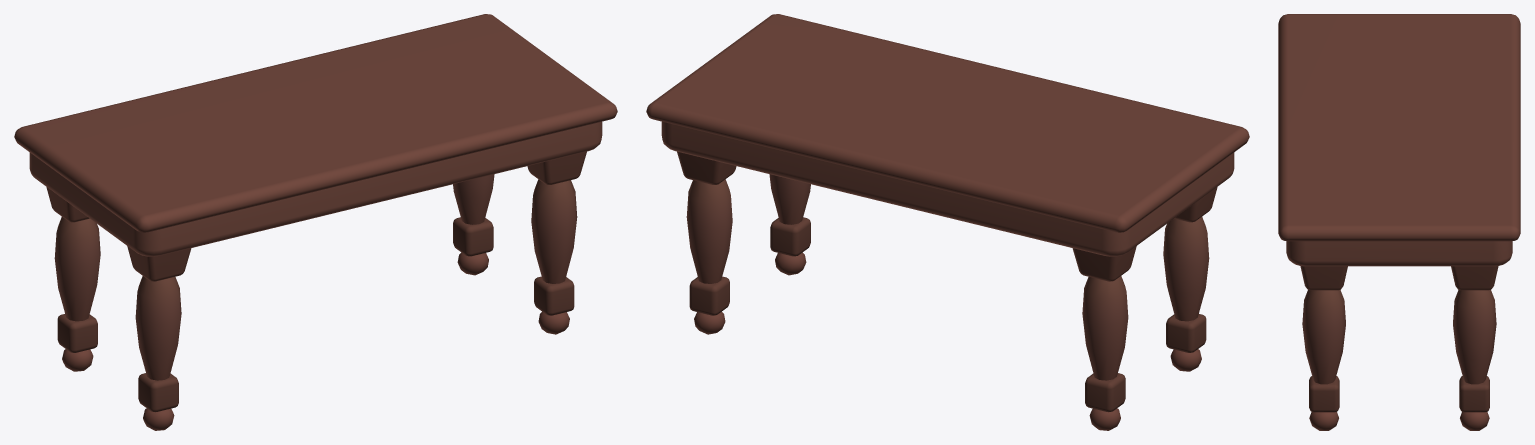
Rendered from Kitchen_Table_09.glb.
3 views of the same model, side by side, from view 1: azimuth 30°, elevation 25°; view 2: azimuth 150°, elevation 25°; view 3: azimuth 270°, elevation 25° (orthographic). The views are drawn at different scales.
Parts seen in each view (by area): view 1: Kitchen_Table_09; view 2: Kitchen_Table_09; view 3: Kitchen_Table_09.
Part boxes in pixels (x1,y1,x2,y2): Kitchen_Table_09: (14,14,617,430); Kitchen_Table_09: (646,14,1249,430); Kitchen_Table_09: (1278,14,1520,430).
Bounding box in the file's own units: 1.6 × 0.7526 × 0.7501.
1 material, 1 textured.
